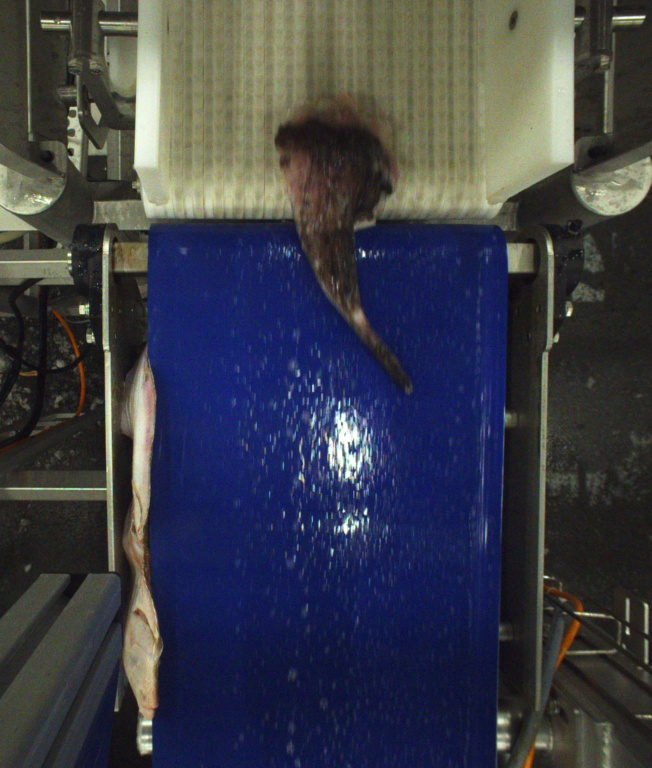ANF: (278, 97, 417, 401)
